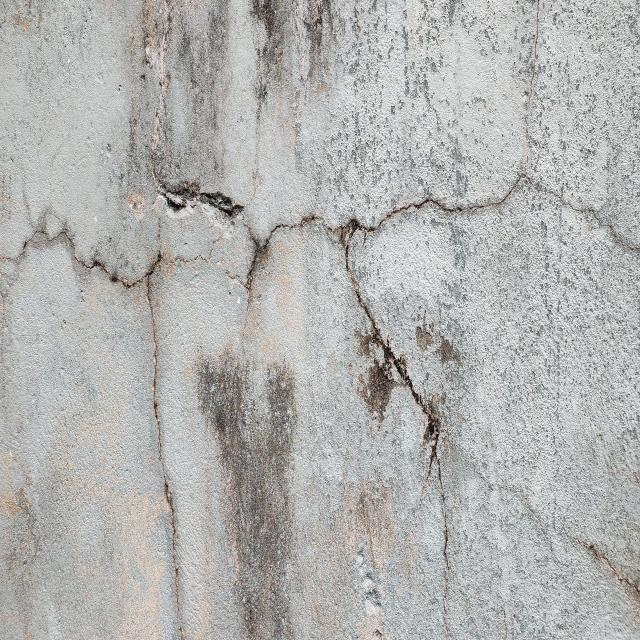SurfaceCrack: (294, 34, 591, 640), (93, 33, 279, 640)
